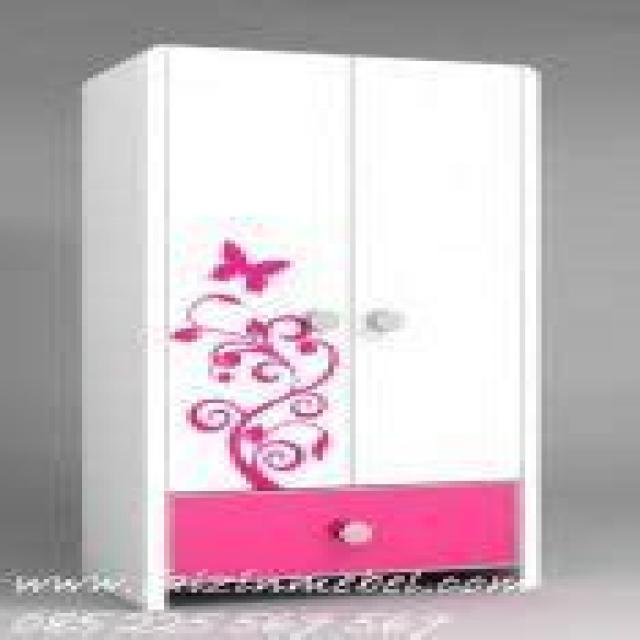Closet: (64, 37, 560, 616)
